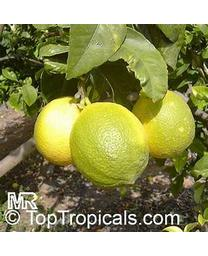lemon: (70, 101, 151, 189), (133, 90, 195, 159), (34, 97, 88, 165)
